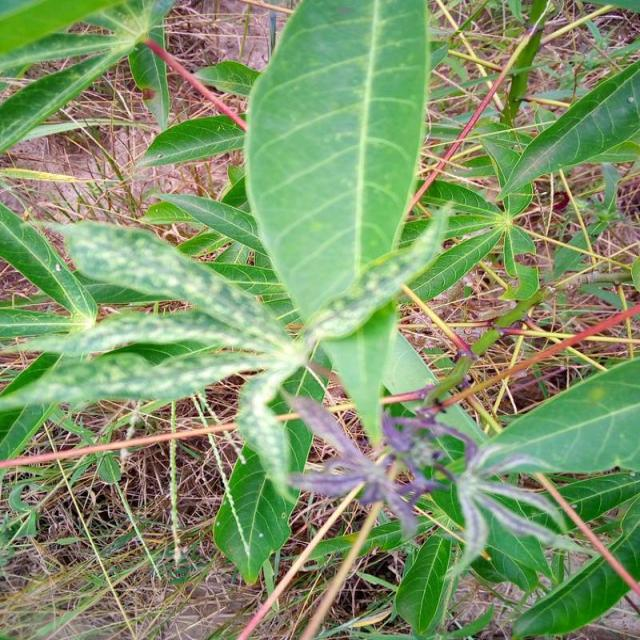cassava leaf: (242, 0, 435, 343)
